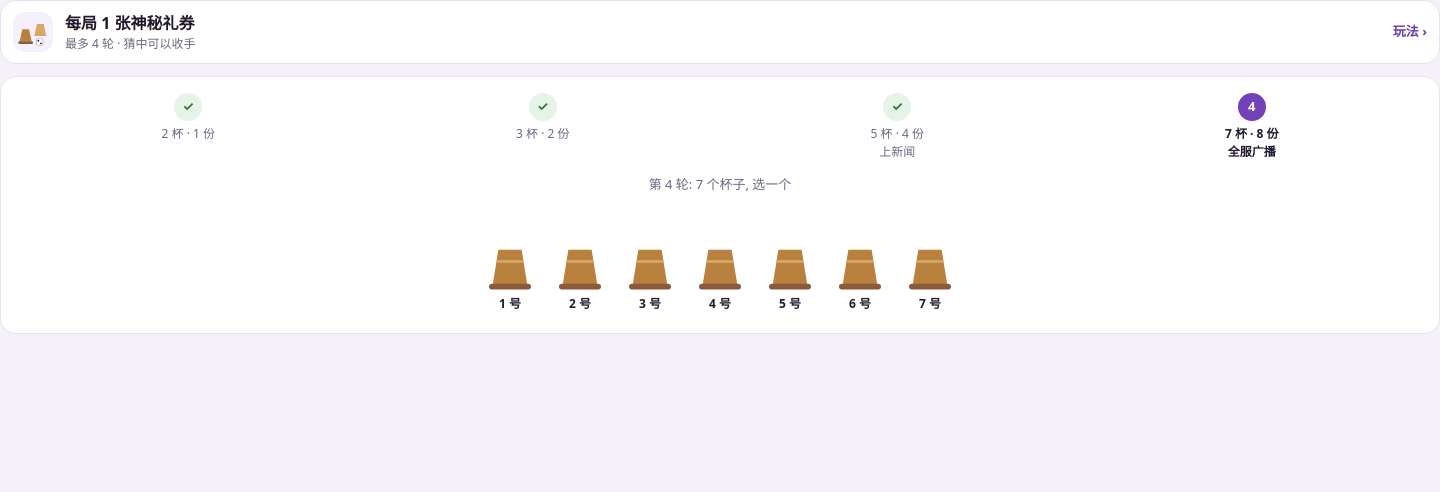
Test: CupPanel › 通关：写全部通关和 8 份奖励
Click the button with test id "cup-6": (930, 262) [900,208,960,316]
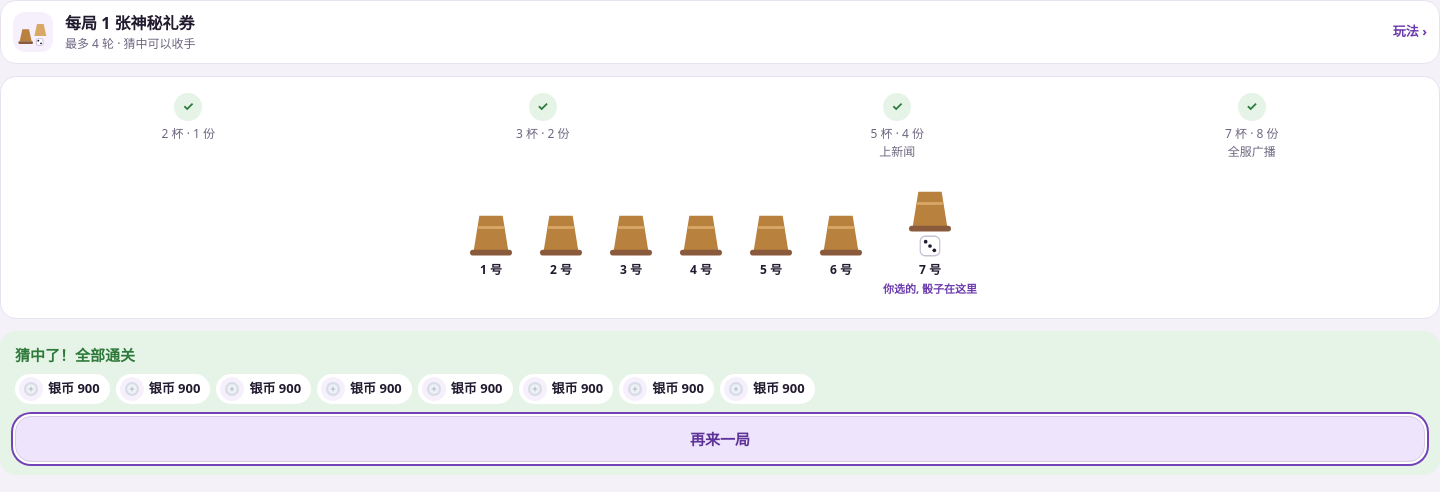
Result: the text "猜中了！全部通关" is shown at [15,344,135,364]
Result: the number of elements with test id "award-chip" is 8
